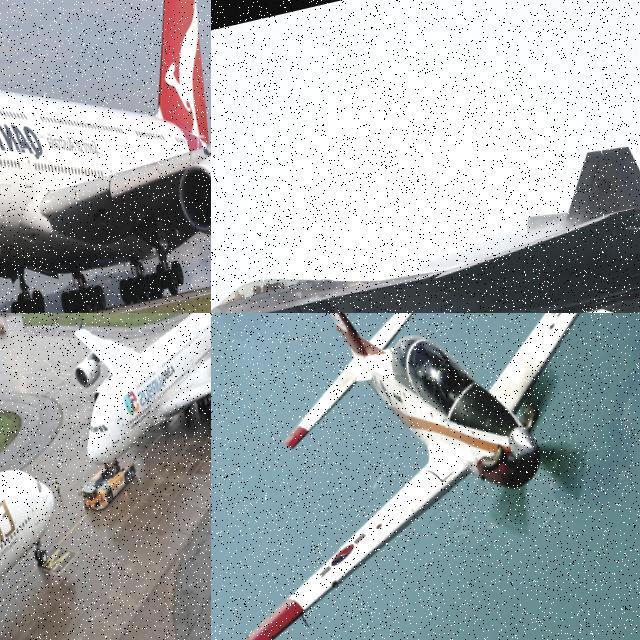A380: (0, 0, 211, 313), (36, 313, 211, 503), (0, 446, 127, 640)
F22: (211, 123, 640, 313)
KT-1: (211, 313, 640, 640)
